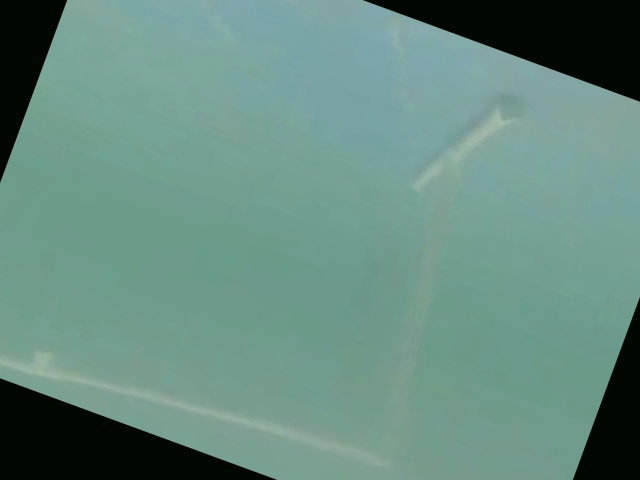gate: (21, 28, 547, 475)
